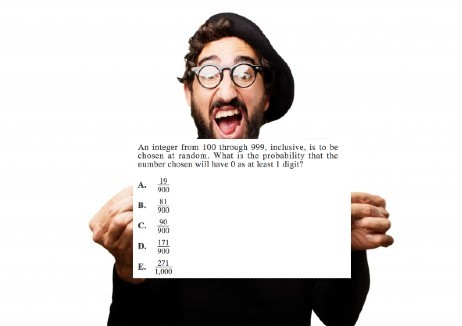questionPaper: (134, 137, 352, 278)
